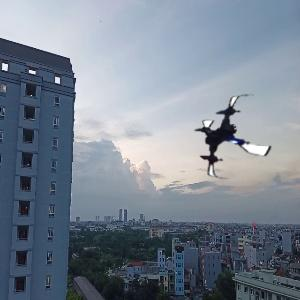drone: (189, 92, 281, 184)
